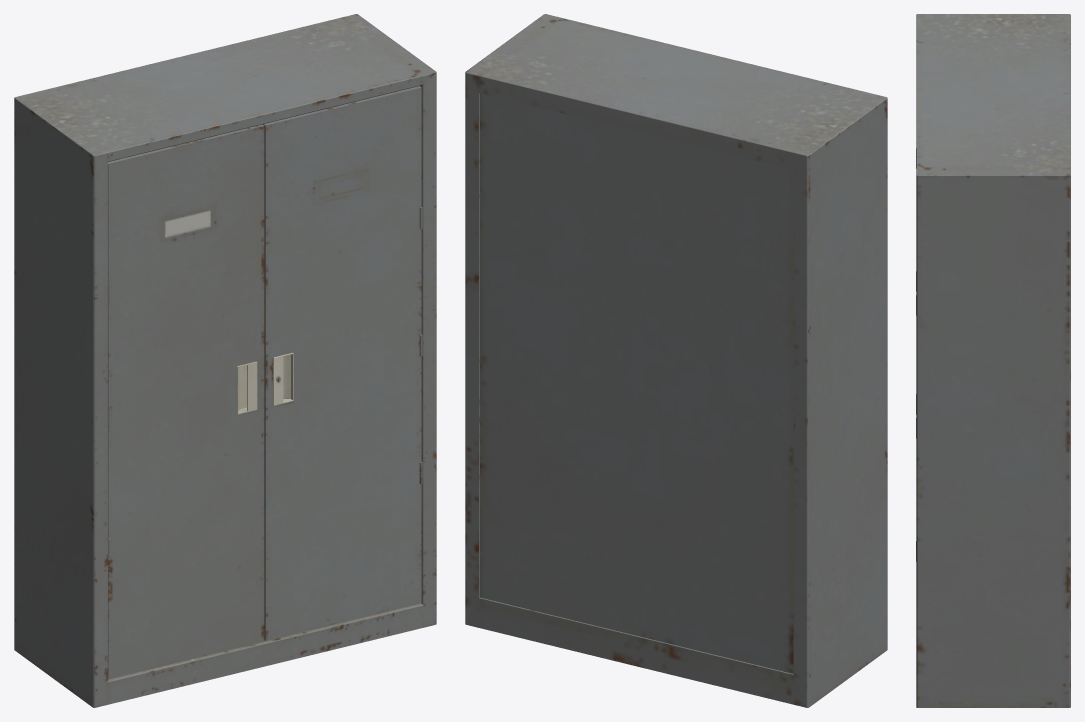
Rendered from 031_OfficeLocker.fbx.
3 renders of one model, left to right at view 1: azimuth 30°, elevation 25°; view 2: azimuth 150°, elevation 25°; view 3: azimuth 270°, elevation 25°, orthographic. The views are drawn at different scales.
Parts seen in each view (by area): view 1: LOD_1_Group_0_Sub_1__sm30_031_OfficeLocker01A_A_Mat; view 2: LOD_1_Group_0_Sub_1__sm30_031_OfficeLocker01A_A_Mat; view 3: LOD_1_Group_0_Sub_1__sm30_031_OfficeLocker01A_A_Mat.
Boxes of the visible parts, x1=… form: LOD_1_Group_0_Sub_1__sm30_031_OfficeLocker01A_A_Mat: x1=14, y1=14, x2=436, y2=707; LOD_1_Group_0_Sub_1__sm30_031_OfficeLocker01A_A_Mat: x1=465, y1=14, x2=887, y2=707; LOD_1_Group_0_Sub_1__sm30_031_OfficeLocker01A_A_Mat: x1=916, y1=14, x2=1070, y2=707.
Size of the model in its own units: 1.33 by 2.05 by 0.5399.
